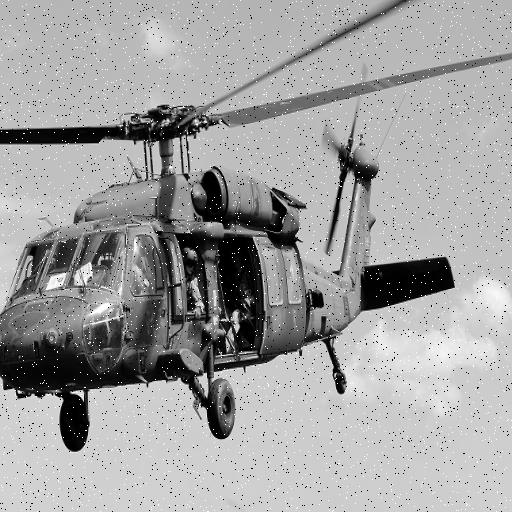helicopter: (1, 1, 512, 461)
